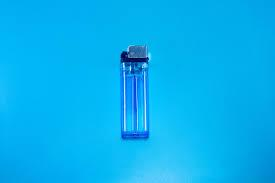lighter: (120, 46, 151, 138)
